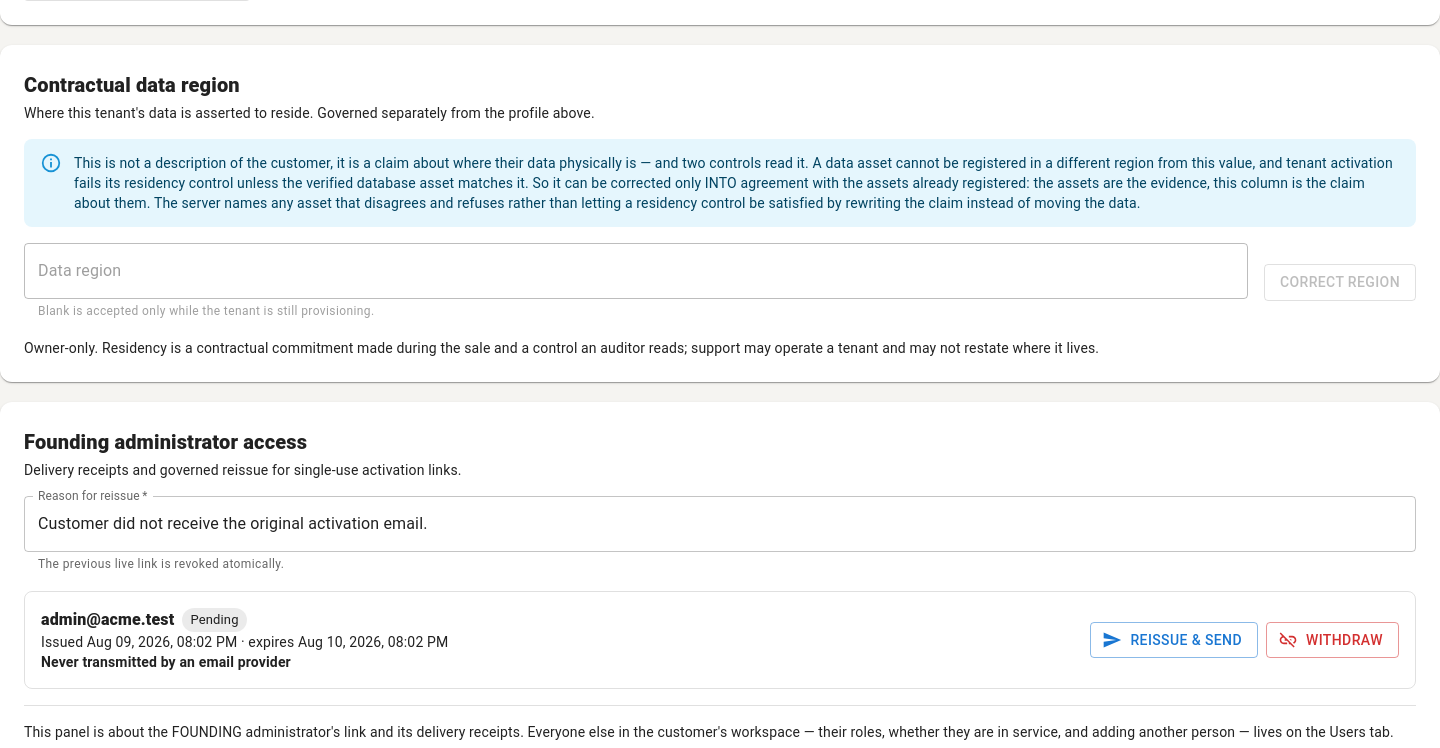
ProfileAccessTab › shows the one-time activation link when the provider did not transmit email
The width and height of the screenshot is (1440, 748).
(page scrolled)
Expected: the text "Never transmitted by an email provider" is shown, [41,654,291,670]
Click the button "Reissue & send" at (1174, 640), box [1090,622,1258,658]
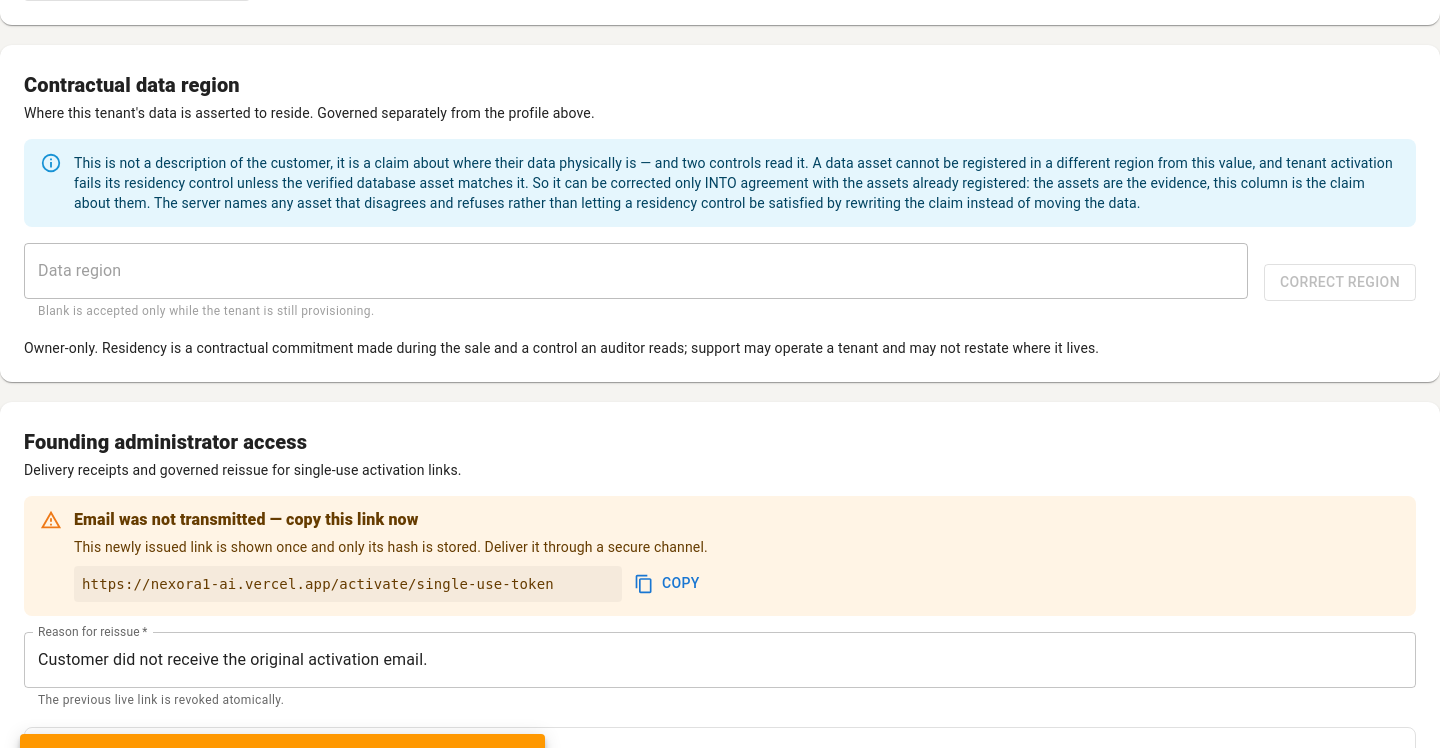
Result: the text "https://nexora1-ai.vercel.app/activate/single-use-token" is shown at [74,566,622,602]
Result: the text "Email was not transmitted — copy this link now" is shown at [74,510,418,529]
